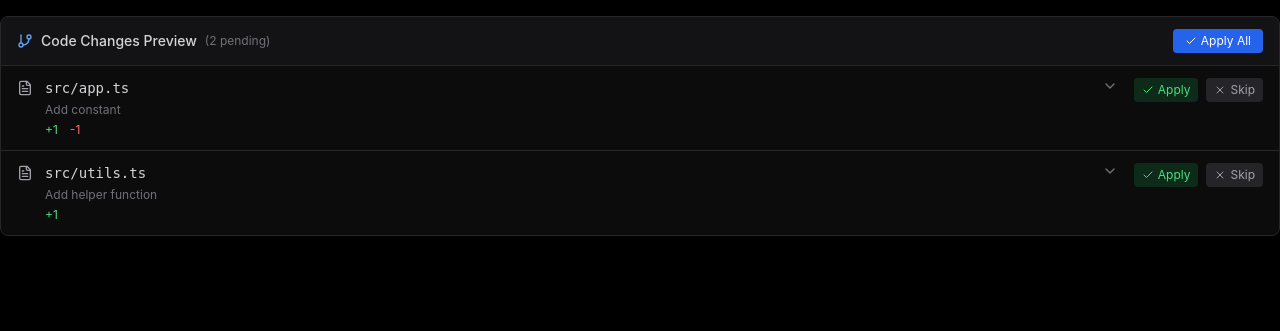
Test: CodeChangePreview › Expand/Collapse › expands diff view when change clicked
The image size is (1280, 331).
Note: Click on file path to expand
Click the text "src/app.ts" at (87, 88), box [45,78,129,98]
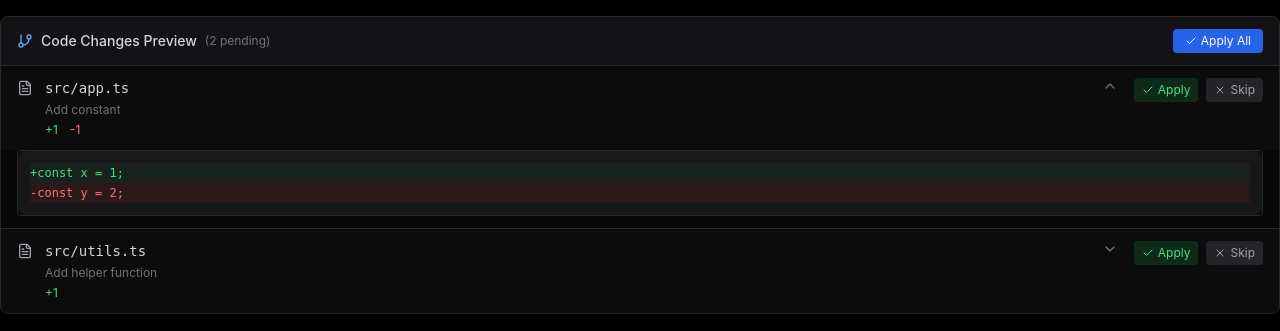
Result: the text "+const x = 1;" is shown at [30,163,1250,183]
